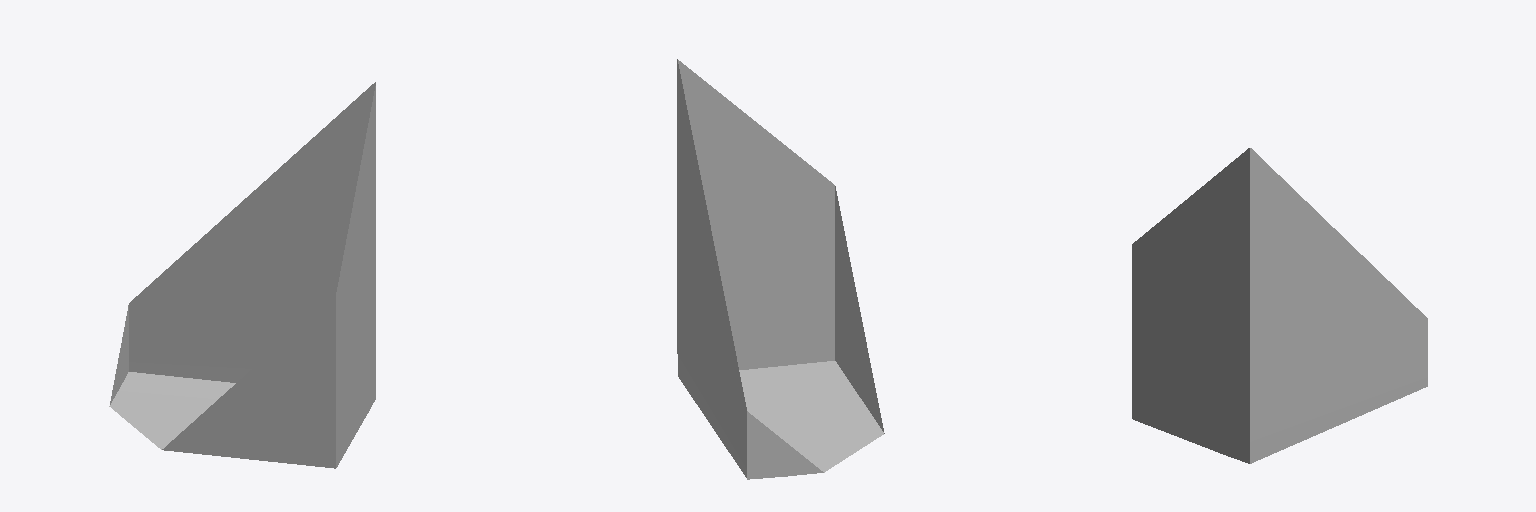
Rendered from li-fang-ti-.001_cell.104.obj.
The picture shows the model from 3 angles: view 1: azimuth 30°, elevation 25°; view 2: azimuth 150°, elevation 25°; view 3: azimuth 270°, elevation 25°; orthographic projection.
Parts seen in each view (by area): view 1: 立方体.001_cell.104; view 2: 立方体.001_cell.104; view 3: 立方体.001_cell.104.
Boxes of the visible parts, <box> form: 立方体.001_cell.104: <box>109,82,375,468</box>; 立方体.001_cell.104: <box>677,59,884,479</box>; 立方体.001_cell.104: <box>1132,148,1427,463</box>.
Size of the model in its own units: 0.131 by 0.1902 by 0.1588.